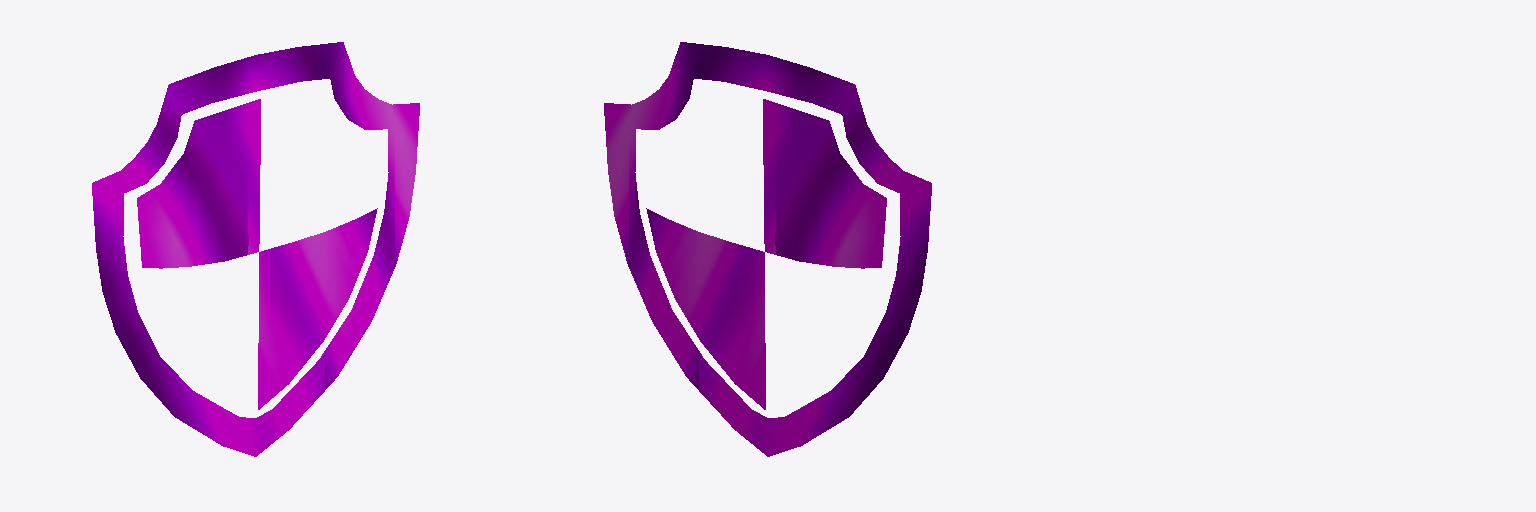
The picture shows the model from 3 angles: view 1: azimuth 30°, elevation 25°; view 2: azimuth 150°, elevation 25°; view 3: azimuth 270°, elevation 25°; orthographic projection.
Visible parts, largest first — view 1: Shield_Plane.002; view 2: Shield_Plane.002; view 3: none.
Part boxes in pixels (bbox=[...]): Shield_Plane.002: bbox=[92, 42, 419, 456]; Shield_Plane.002: bbox=[604, 42, 931, 456].
Size of the model in its own units: 0.0181 by 0.0212 by 0.
Materials: 1 (1 with a texture image).